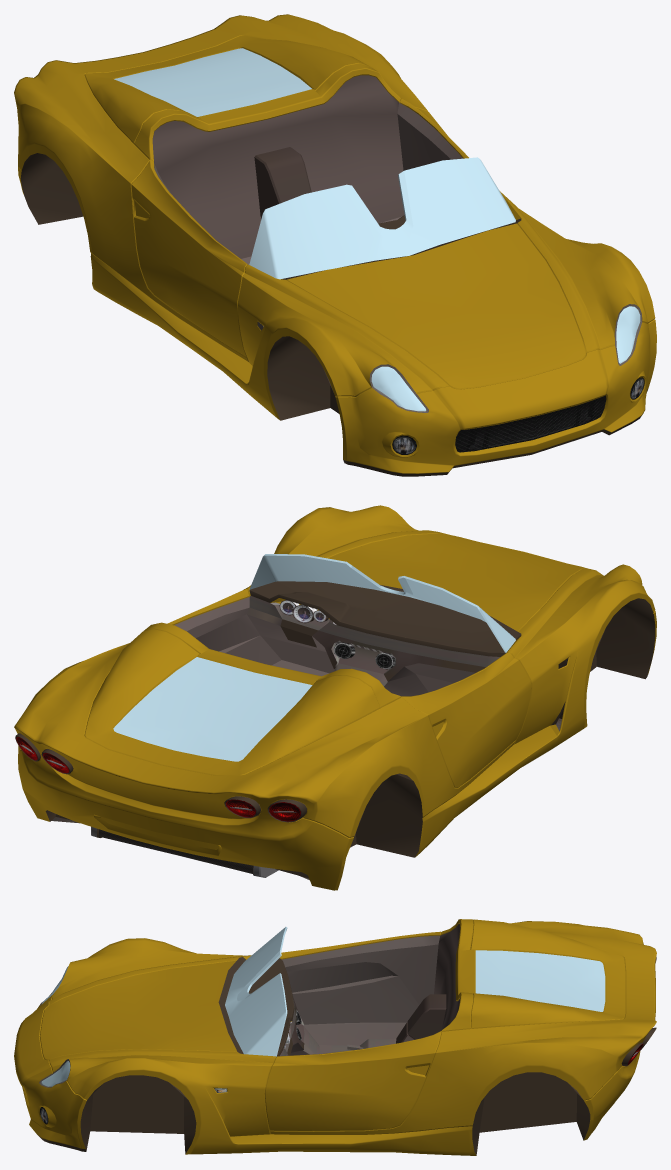
The model's file is Sport Car.fbx.
The picture shows the model from 3 angles, top to bottom: view 1: azimuth 30°, elevation 25°; view 2: azimuth 150°, elevation 25°; view 3: azimuth 270°, elevation 25°; orthographic projection. The views are drawn at different scales.
Parts seen in each view (by area): view 1: node_id45, node_id43, node_id31, node_id35, node_id53; view 2: node_id45, node_id31, node_id43, node_id35, node_id41, node_id63, node_id61, node_id49, node_id47; view 3: node_id45, node_id43, node_id35, node_id31, node_id41.
Part boxes in pixels (left/top/right/bottom): node_id45: left=14, top=14, right=656, bottom=473; node_id43: left=152, top=75, right=642, bottom=412; node_id31: left=114, top=48, right=640, bottom=411; node_id35: left=20, top=153, right=648, bottom=476; node_id53: left=455, top=395, right=606, bottom=452; node_id45: left=14, top=505, right=656, bottom=890; node_id31: left=113, top=554, right=515, bottom=761; node_id43: left=174, top=596, right=499, bottom=696; node_id35: left=45, top=585, right=655, bottom=878; node_id41: left=249, top=581, right=505, bottom=656; node_id63: left=15, top=733, right=307, bottom=822; node_id61: left=99, top=829, right=252, bottom=873; node_id49: left=279, top=600, right=328, bottom=623; node_id47: left=333, top=642, right=395, bottom=669; node_id45: left=14, top=919, right=656, bottom=1155; node_id43: left=39, top=924, right=460, bottom=1087; node_id35: left=37, top=957, right=590, bottom=1155; node_id31: left=41, top=927, right=605, bottom=1086; node_id41: left=248, top=958, right=294, bottom=1056.
Bounding box in the file's own units: 0.512 × 0.2455 × 1.04.
Materials: 17 (16 with a texture image).
